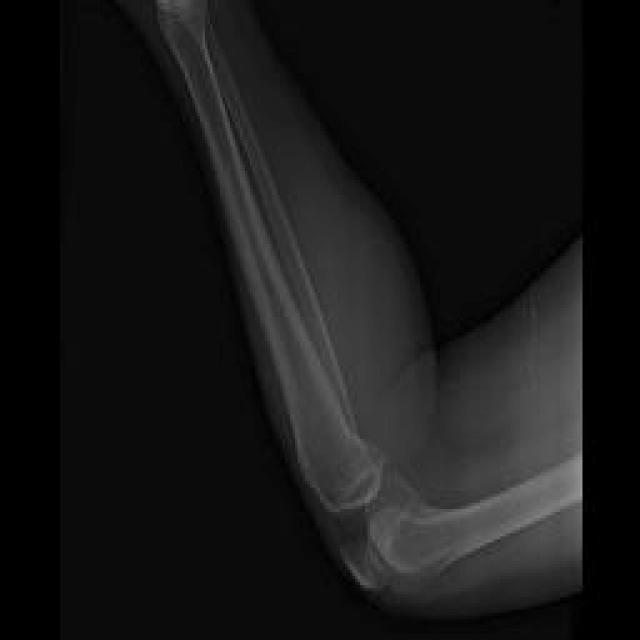normal: (157, 0, 382, 510), (210, 33, 360, 442), (365, 451, 583, 593), (342, 540, 386, 585)
